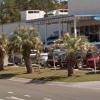Palm tree: (13, 24, 42, 74)
